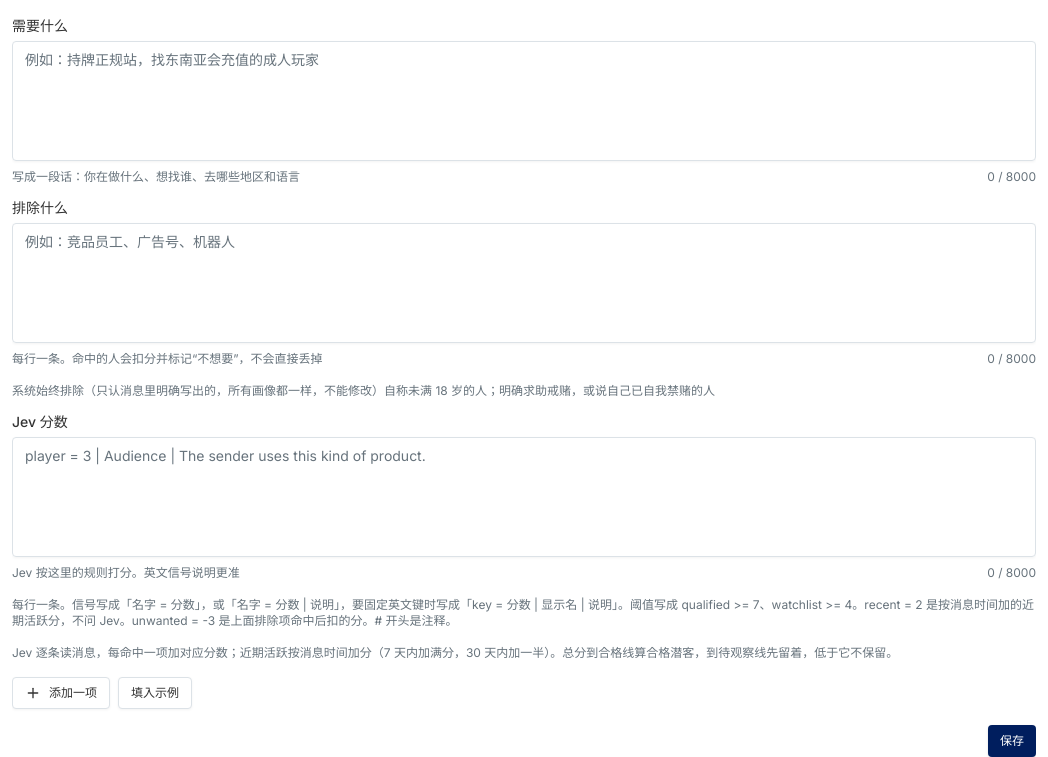
it: GrowthProfileForm › refuses a save that leaves every prompt empty
(page scrolled)
Click the button "保存" at point(1012, 741), box left=988, top=725, right=1036, bottom=756
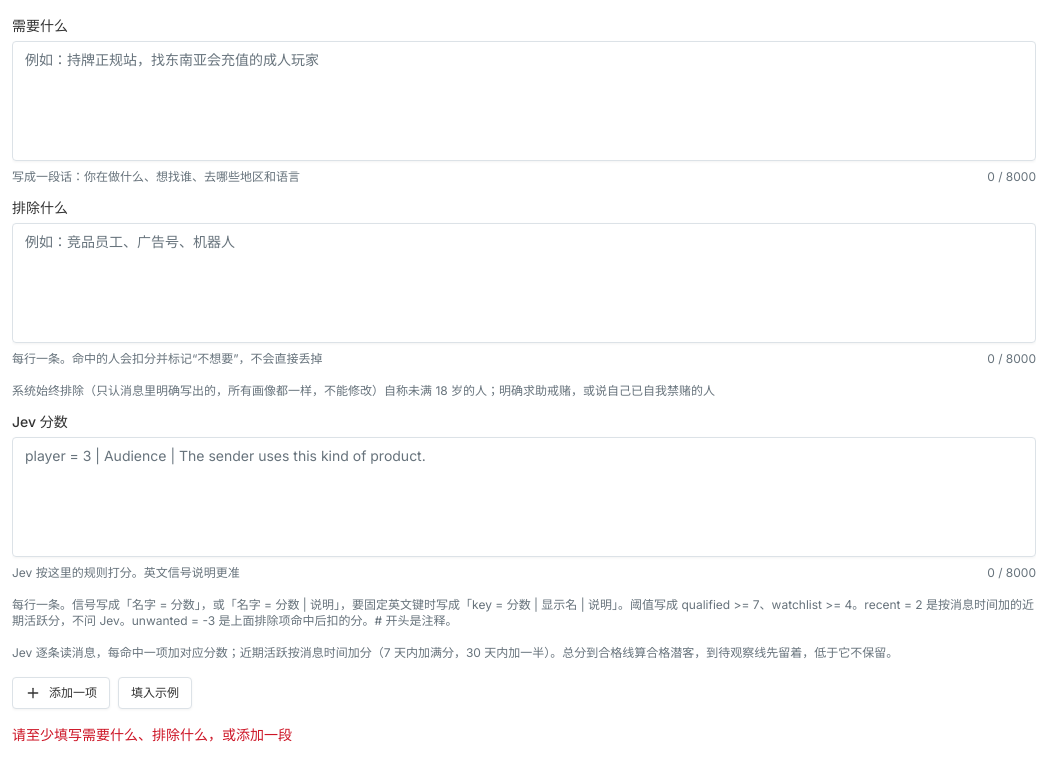
Now the text "请至少填写需要什么、排除什么，或添加一段" is shown, box left=12, top=726, right=292, bottom=743
